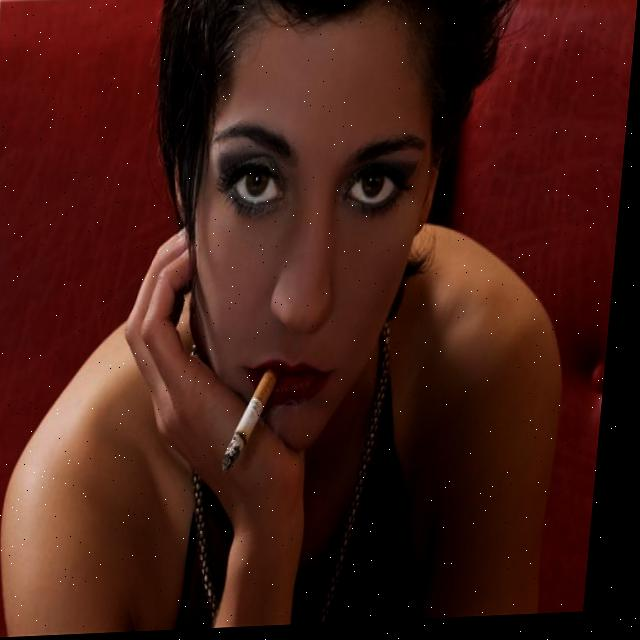cigarette: (230, 371, 287, 475)
